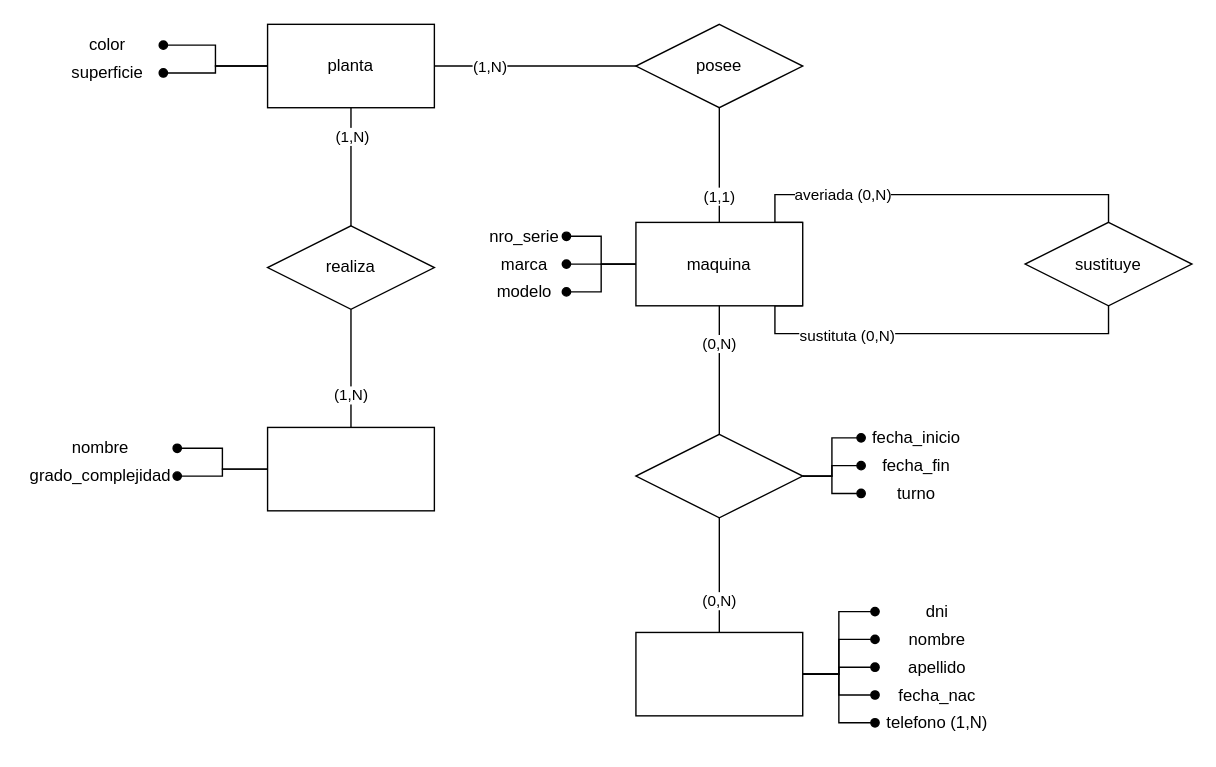
This 1216x767 diagram has some shape labels left out. The shapes that lost their labels are listed below. From the top down, each one's box as (x1, y1, x2, y2) in pixels, then its label:
(266, 426, 434, 511): proceso_productivo
(635, 433, 803, 518): opera
(635, 631, 803, 716): tecnico
